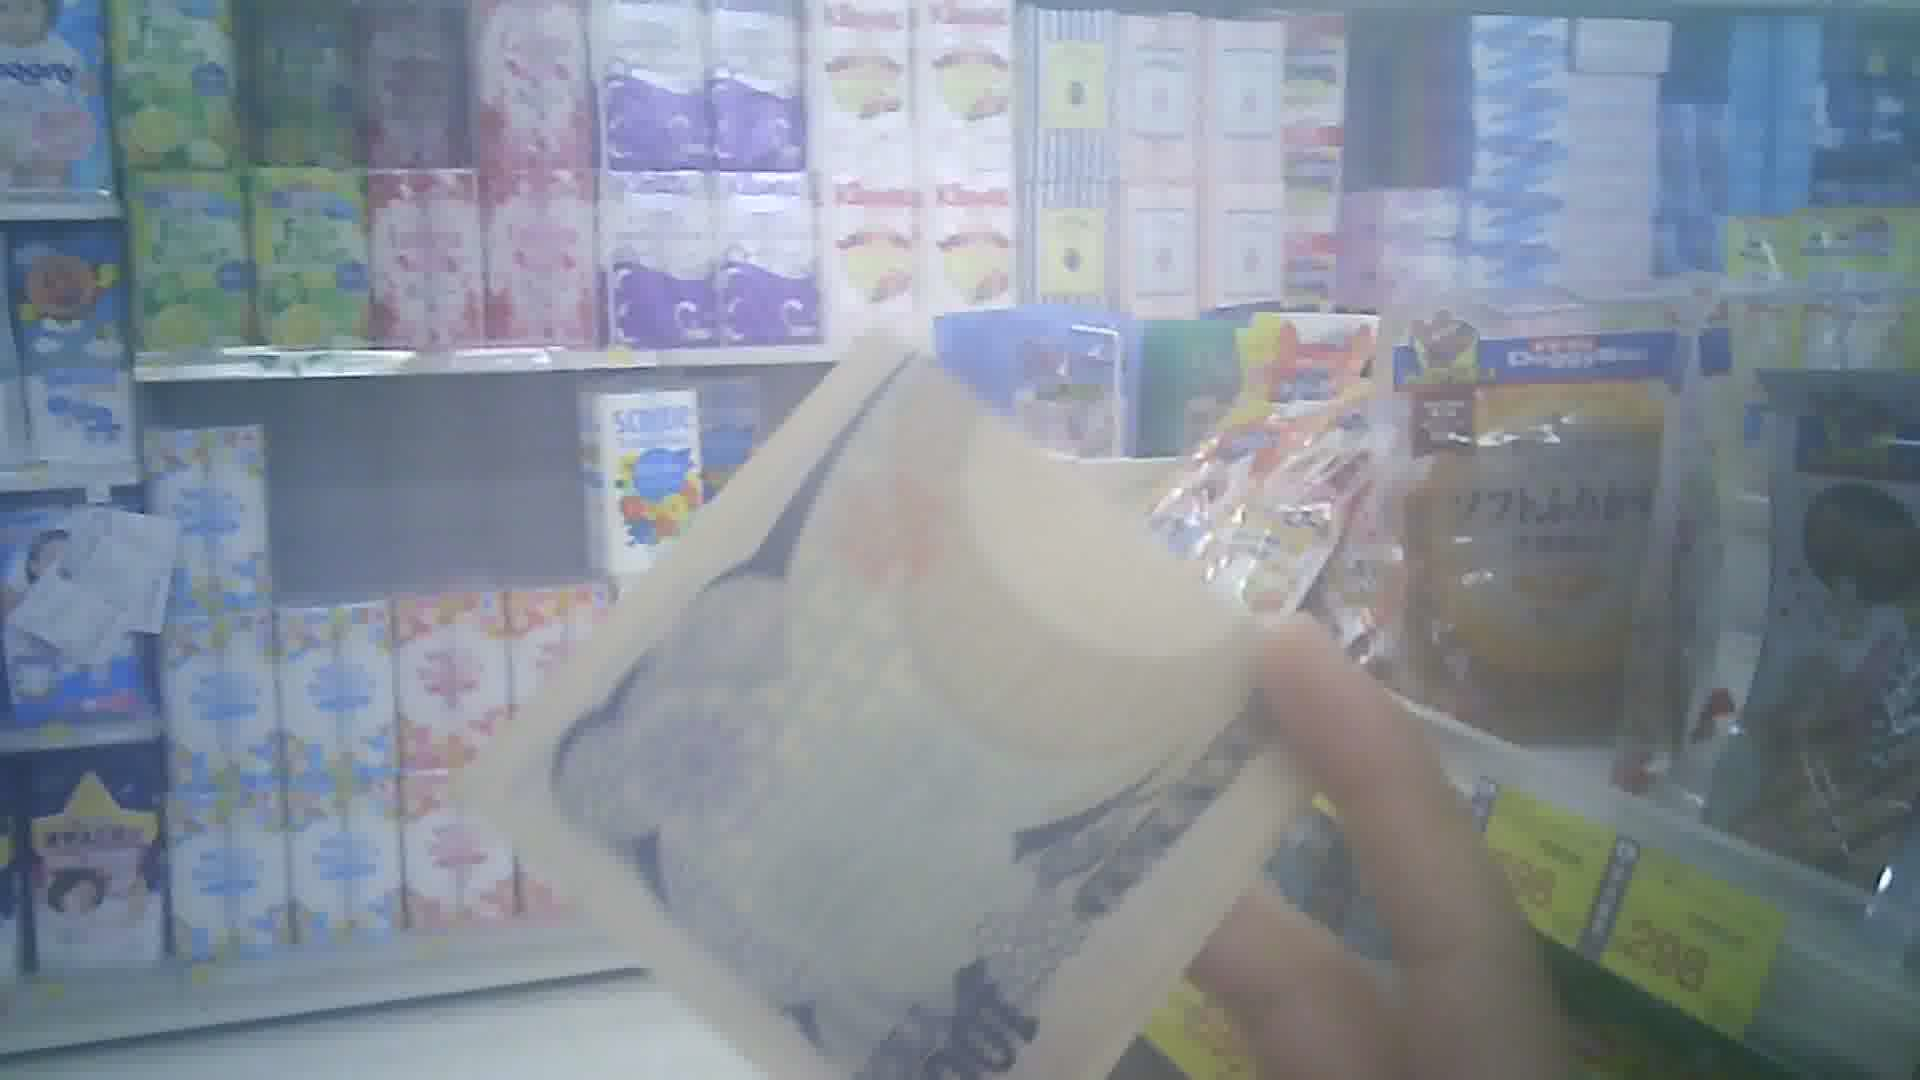1,000 Yen: (484, 302, 1337, 1077)
